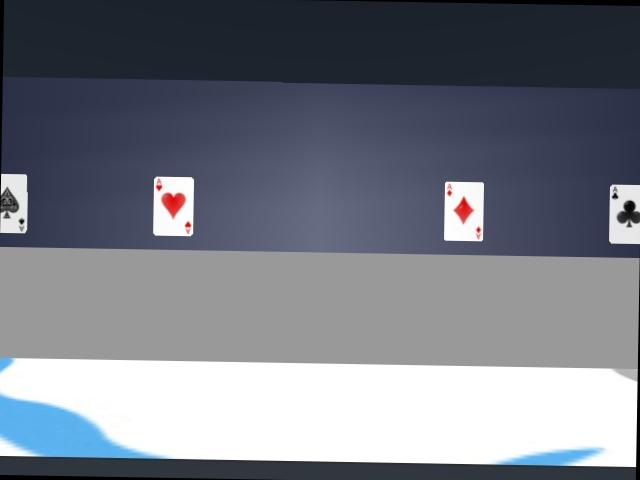club: (609, 185, 639, 243), (0, 174, 27, 232)
diamond: (443, 181, 485, 241)
heart: (153, 177, 193, 235)
